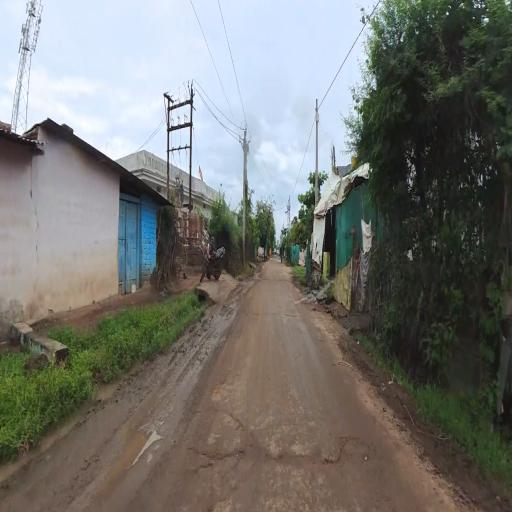longitudinal_crack: (184, 411, 380, 512)
